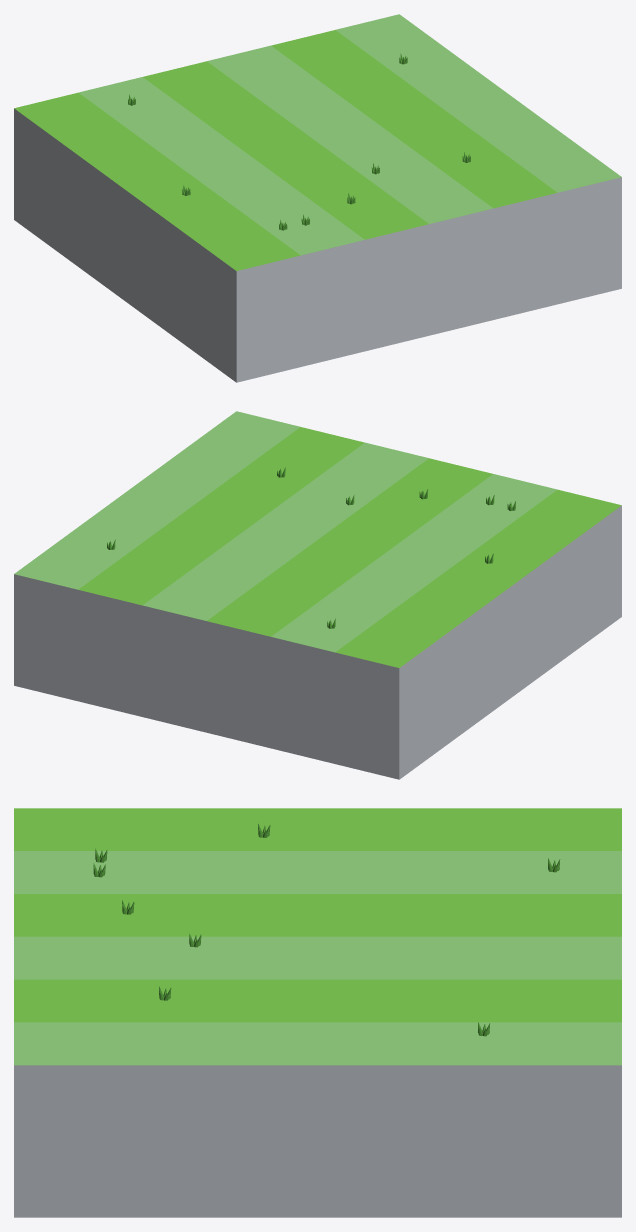
The model's file is plato_topo.glb.
The picture shows the model from 3 angles, top to bottom: view 1: azimuth 30°, elevation 25°; view 2: azimuth 150°, elevation 25°; view 3: azimuth 270°, elevation 25°; orthographic projection. The views are drawn at different scales.
Visible parts, largest first — view 1: plato_topo; view 2: plato_topo; view 3: plato_topo.
Boxes of the visible parts, x1,y1,x2,y2 form: plato_topo: (14,14,621,382); plato_topo: (14,411,621,779); plato_topo: (14,808,621,1217).
Size of the model in its own units: 15 by 4.44 by 15.
Materials: 1 (1 with a texture image).
